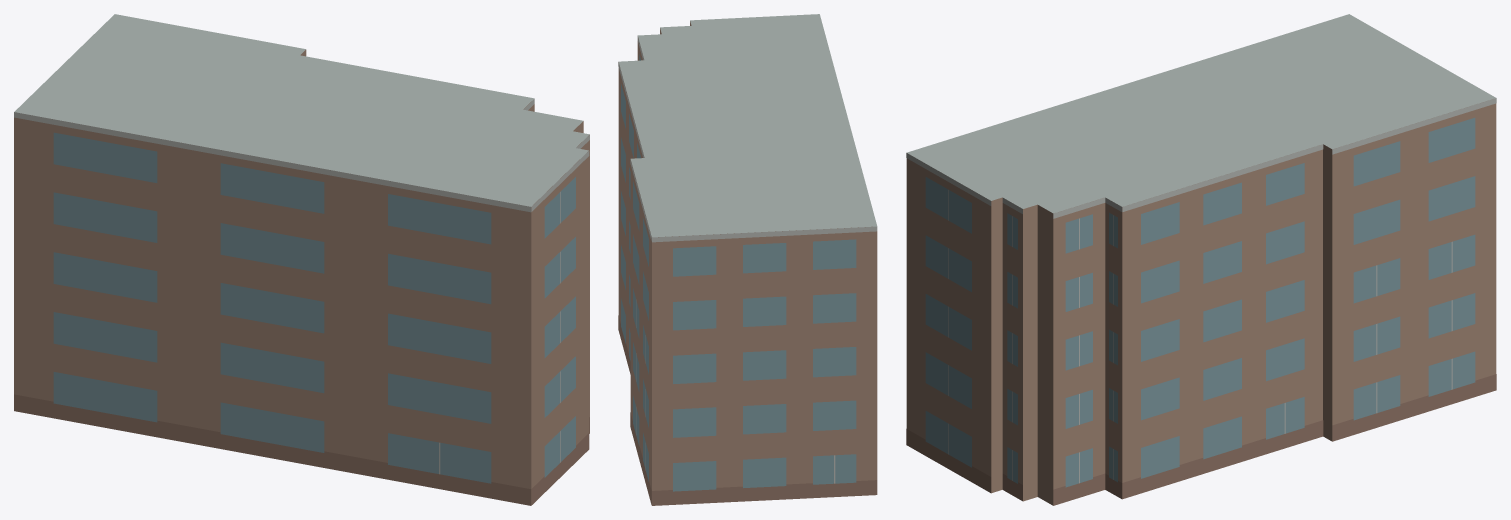
File: residential-b322164e-27be-4a8d-9c53-f4a450d76326.glb
3 renders of one model, left to right at view 1: azimuth 30°, elevation 25°; view 2: azimuth 150°, elevation 25°; view 3: azimuth 270°, elevation 25°, orthographic. The views are drawn at different scales.
Parts seen in each view (by area): view 1: residential-b322164e-27be-4a8d-9c53-f4a450d76326.tmp; view 2: residential-b322164e-27be-4a8d-9c53-f4a450d76326.tmp; view 3: residential-b322164e-27be-4a8d-9c53-f4a450d76326.tmp.
Part boxes in pixels (box(x1,y1,x2,y2)): residential-b322164e-27be-4a8d-9c53-f4a450d76326.tmp: box(14, 14, 589, 505); residential-b322164e-27be-4a8d-9c53-f4a450d76326.tmp: box(618, 14, 877, 505); residential-b322164e-27be-4a8d-9c53-f4a450d76326.tmp: box(906, 14, 1496, 505).
Bounding box in the file's own units: 19.48 × 13.3 × 24.33.
